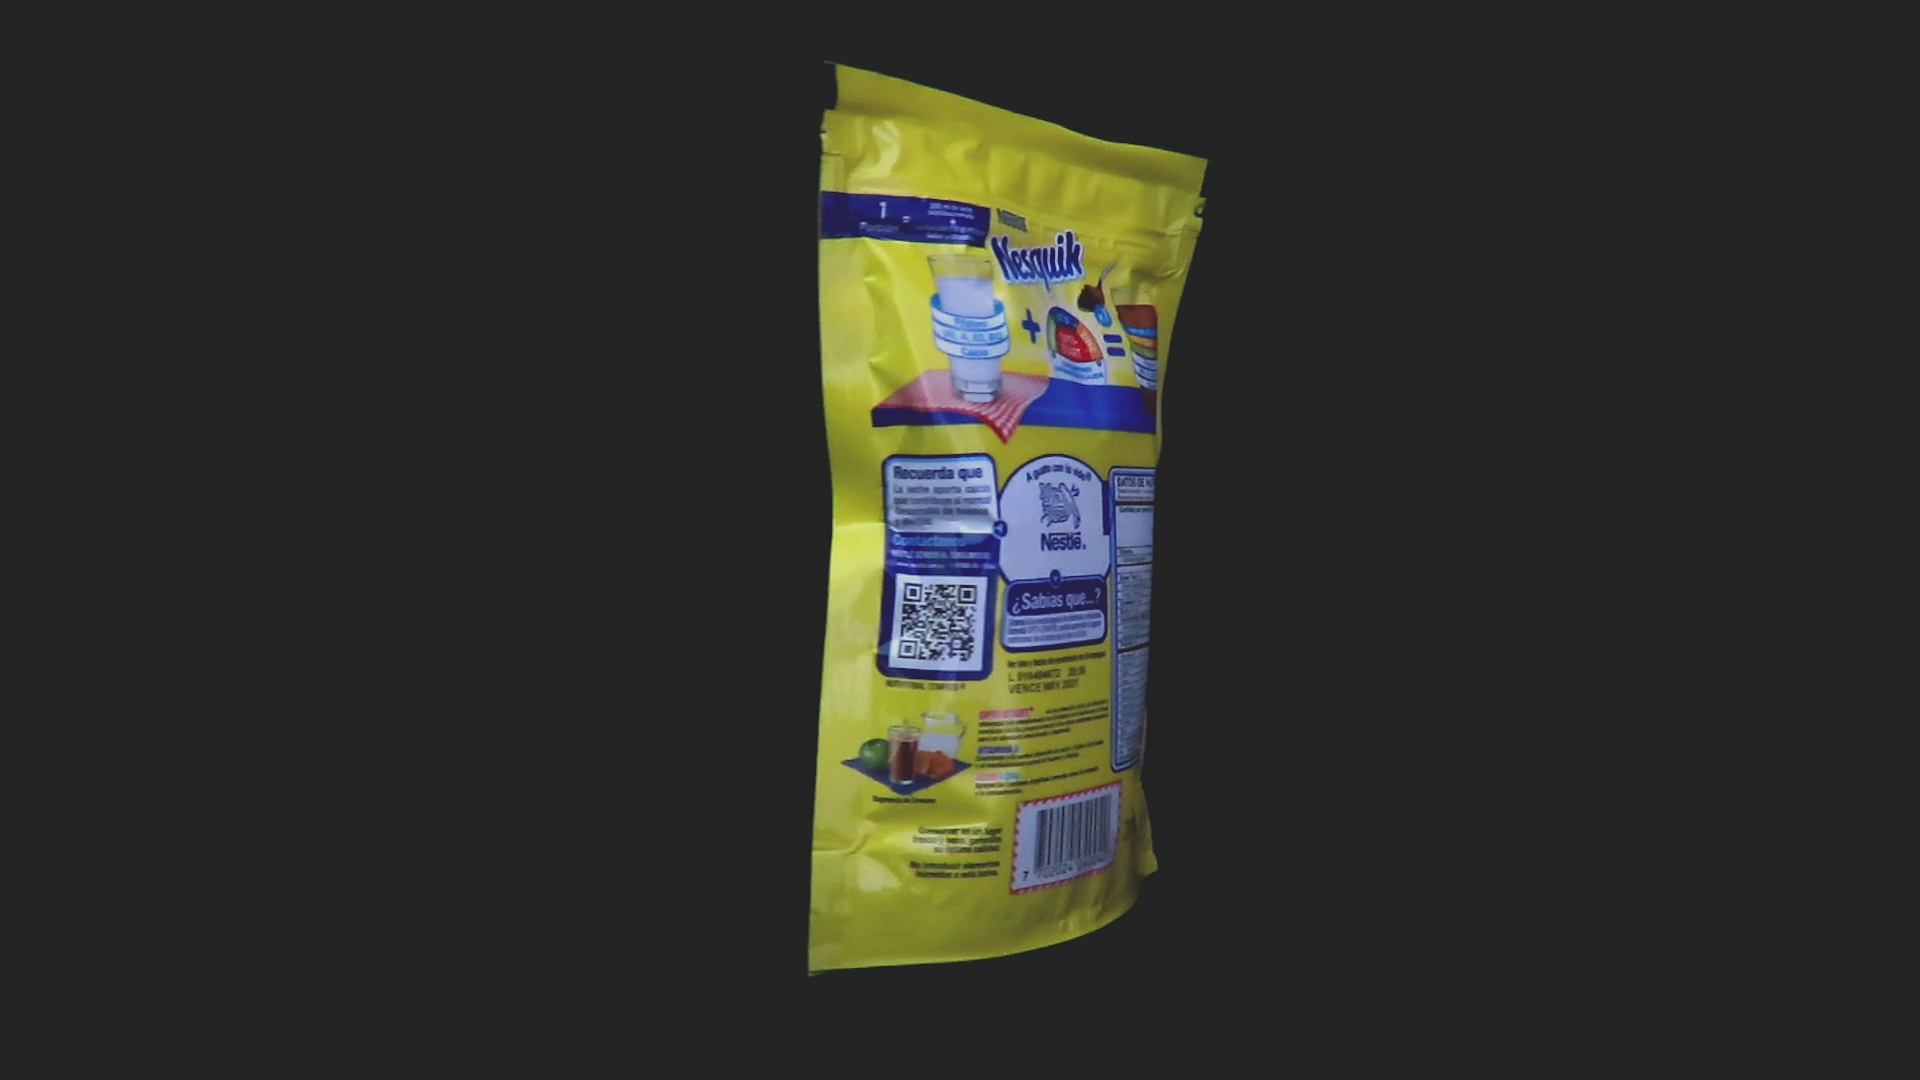COL0170303DYP20000: (803, 59, 1215, 977)
